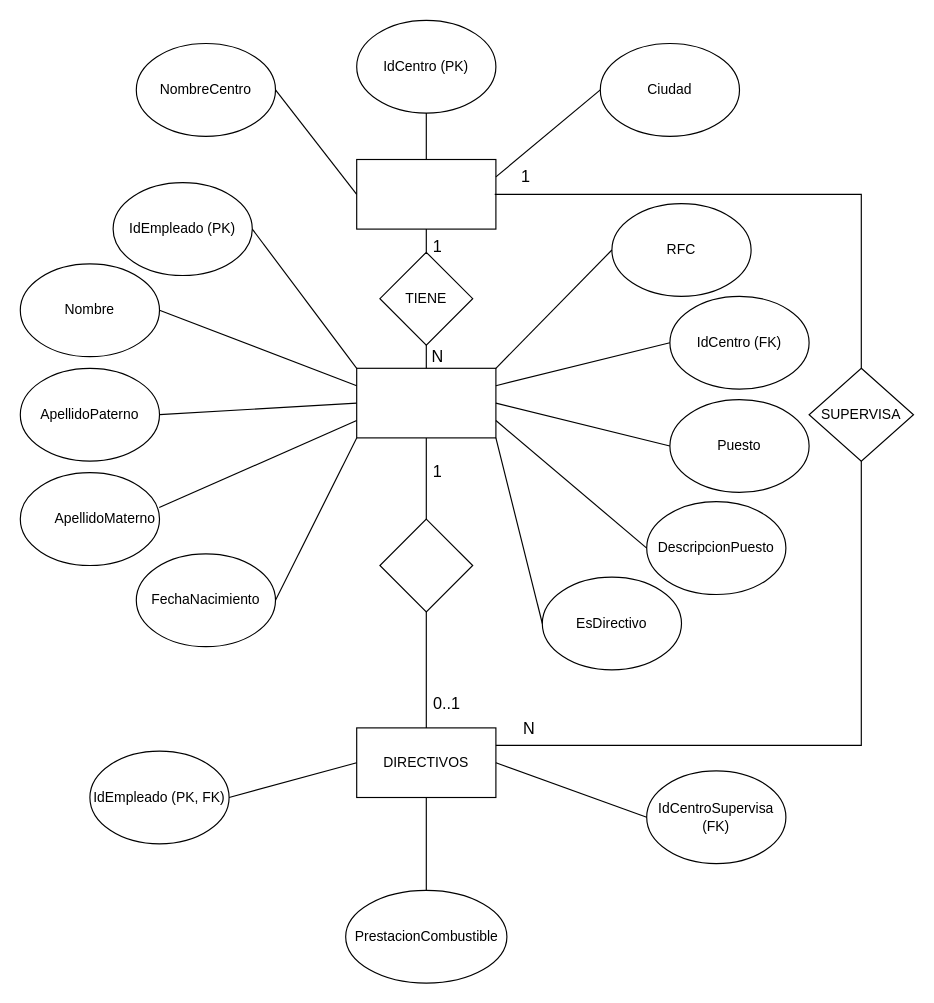
Some shapes in this 934 by 1003 pixel diagram are drawn without their labels. The box of each missing label's shape, as (x1, y1, x2, y2) in pixels:
CENTROS_TRABAJO: (356, 158, 496, 229)
EMPLEADOS: (356, 367, 496, 438)
ES: (379, 518, 473, 612)
